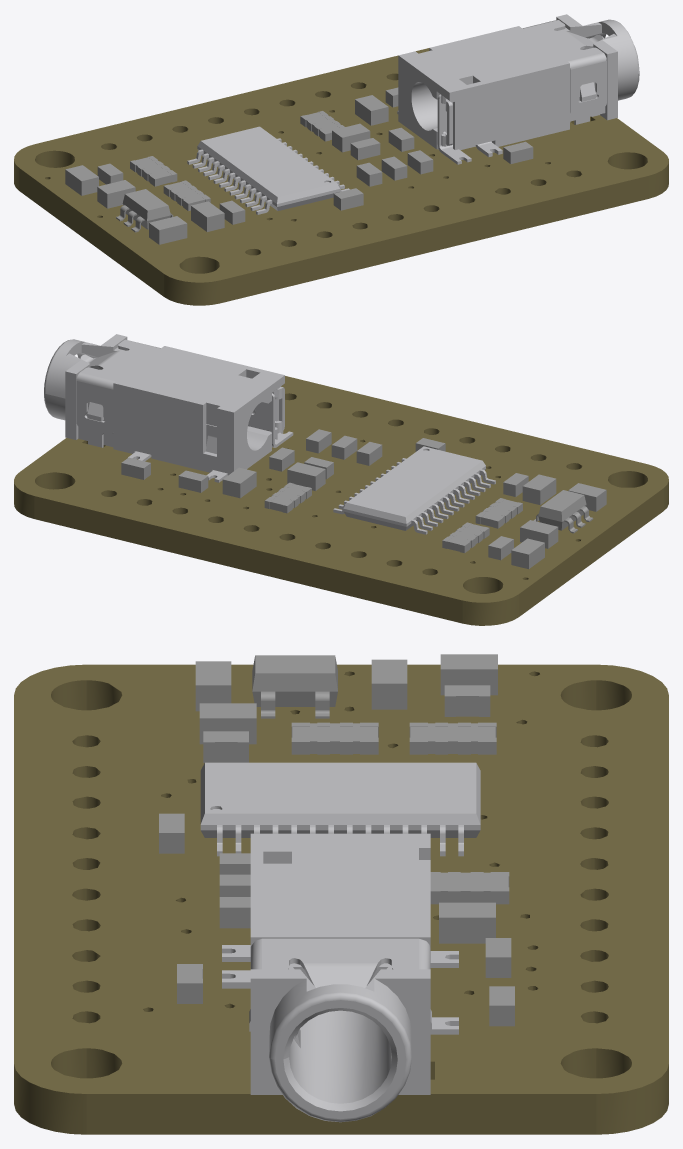
The model's file is ada-6421.glb.
The picture shows the model from 3 angles, top to bottom: view 1: azimuth 30°, elevation 25°; view 2: azimuth 150°, elevation 25°; view 3: azimuth 270°, elevation 25°; orthographic projection. The views are drawn at different scales.
Visible parts, largest first — view 1: 0.16666666666666666_0.16666666666666666_0.08333333333333333_, 0.5833333333333334_0.5833333333333334_0.5833333333333334_0.8, 0.3333333333333333_0.3333333333333333_0.3333333333333333_0; view 2: 0.16666666666666666_0.16666666666666666_0.08333333333333333_, 0.5833333333333334_0.5833333333333334_0.5833333333333334_0.8, 0.3333333333333333_0.3333333333333333_0.3333333333333333_0; view 3: 0.16666666666666666_0.16666666666666666_0.08333333333333333_, 0.5833333333333334_0.5833333333333334_0.5833333333333334_0.8, 0.3333333333333333_0.3333333333333333_0.3333333333333333_0.
Boxes of the visible parts, x1,y1,x2,y2 form: 0.16666666666666666_0.16666666666666666_0.08333333333333333_: (14, 48, 668, 305); 0.5833333333333334_0.5833333333333334_0.5833333333333334_0.8: (187, 14, 639, 214); 0.3333333333333333_0.3333333333333333_0.3333333333333333_0: (65, 87, 533, 244); 0.16666666666666666_0.16666666666666666_0.08333333333333333_: (14, 376, 668, 625); 0.5833333333333334_0.5833333333333334_0.5833333333333334_0.8: (44, 334, 495, 534); 0.3333333333333333_0.3333333333333333_0.3333333333333333_0: (121, 429, 606, 569); 0.16666666666666666_0.16666666666666666_0.08333333333333333_: (14, 664, 668, 1134); 0.5833333333333334_0.5833333333333334_0.5833333333333334_0.8: (200, 762, 480, 1122); 0.3333333333333333_0.3333333333333333_0.3333333333333333_0: (159, 654, 514, 1026).
Size of the model in its own units: 3.76 by 0.6367 by 2.29.
